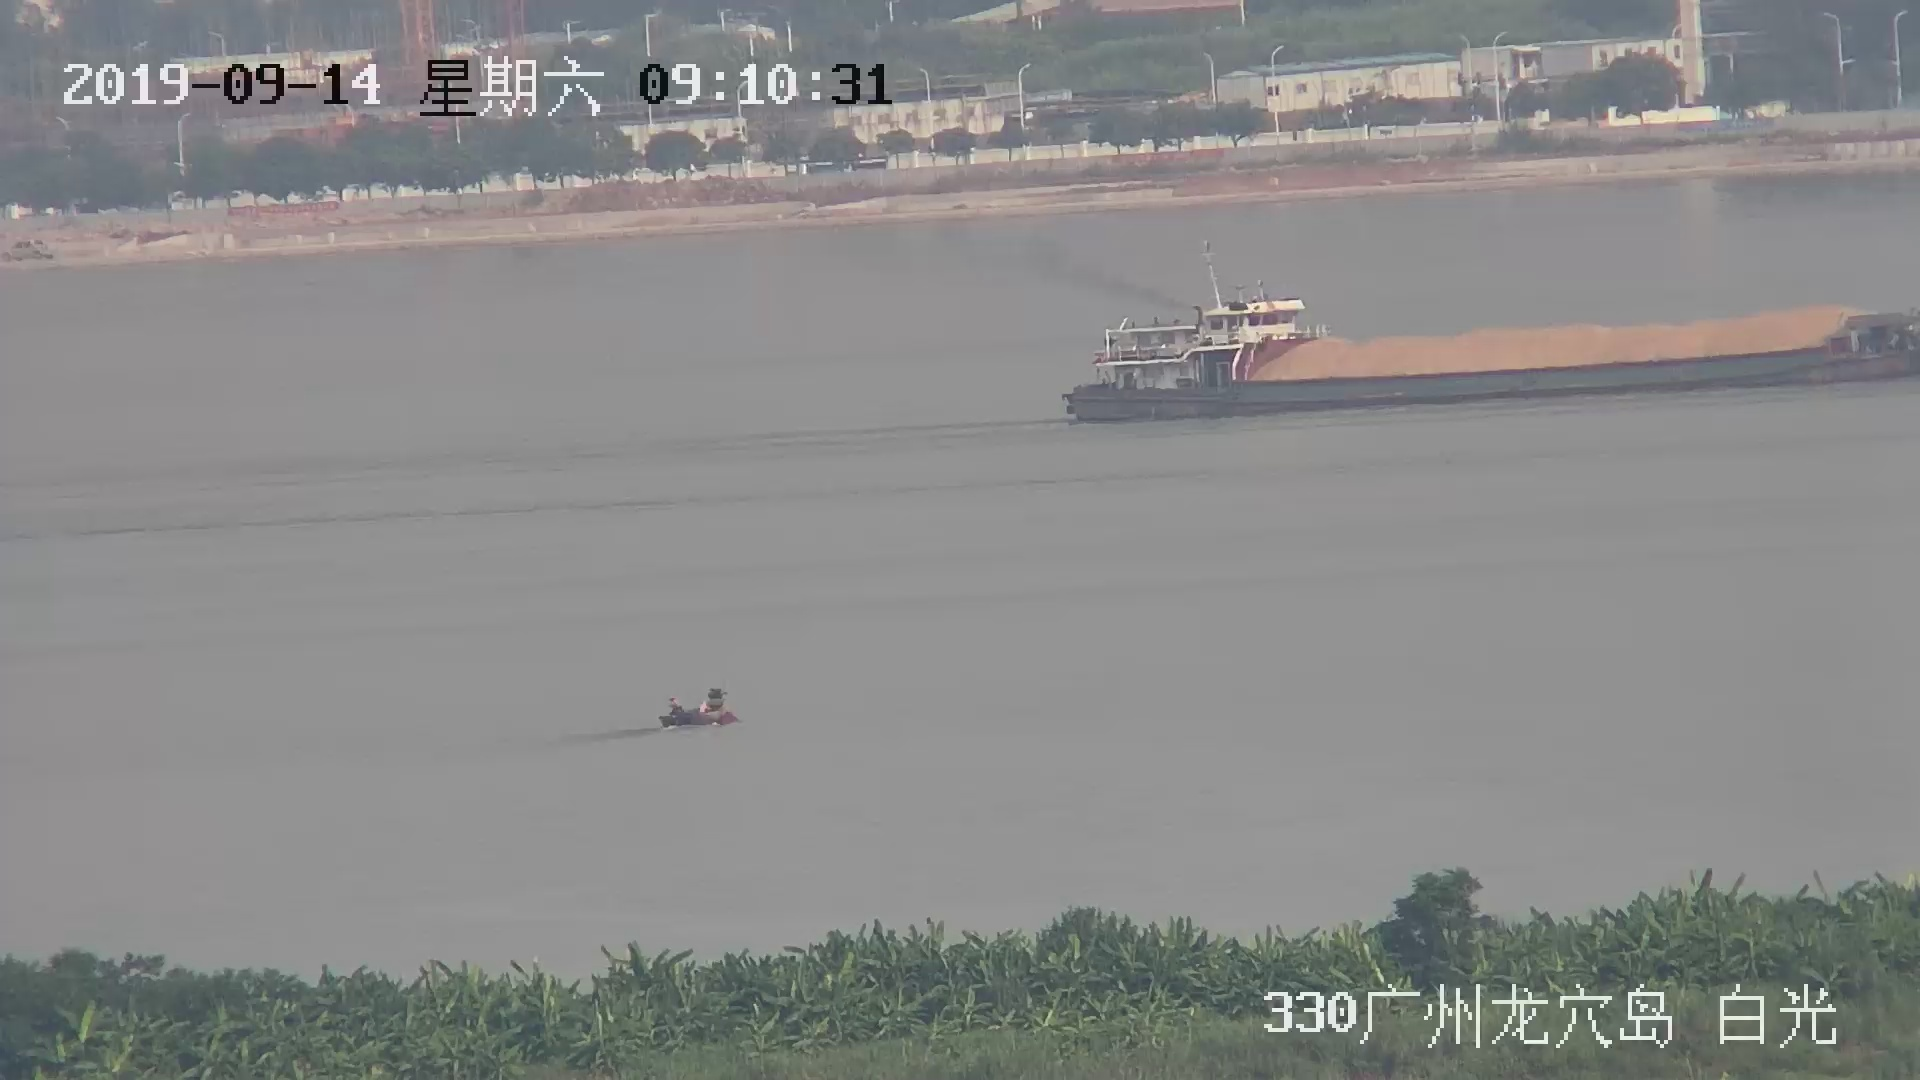ship: (1058, 252, 1920, 425), (659, 692, 742, 727)
